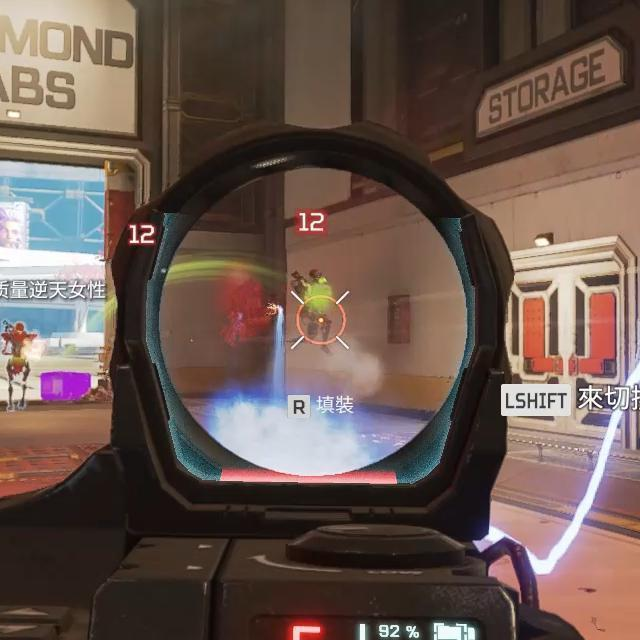avatar: (0, 321, 39, 412)
object: (304, 282, 334, 313)
